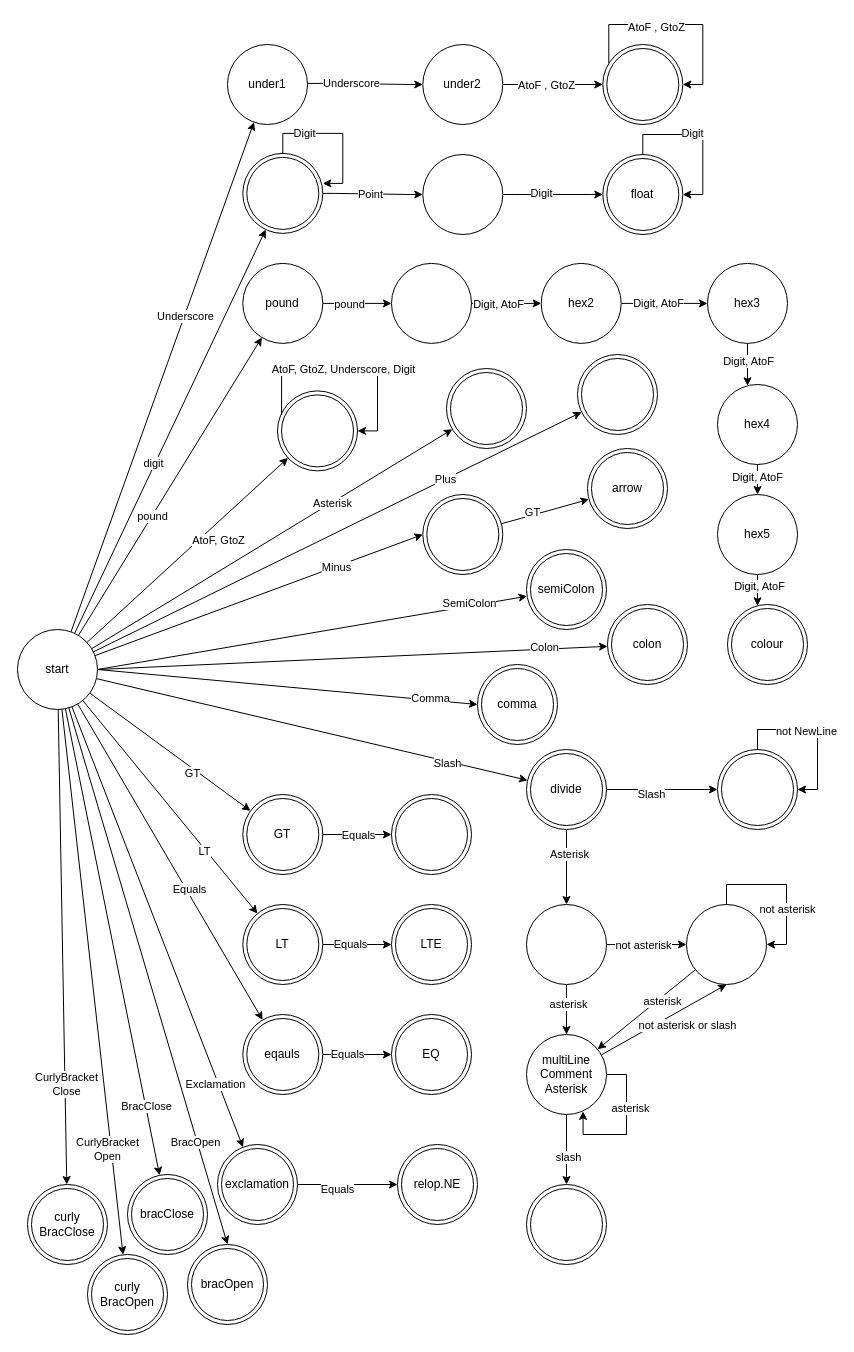
Image size: 854x1352. Some labels were removed from this diagram. Here are the shapes that lost their labels. From the top down, the centre of each, then its label:
At pixel 642 84: "sysFunc".
At pixel 282 192: "int".
At pixel 462 194: "intPoint".
At pixel 431 302: "hex1".
At pixel 486 408: "multiply".
At pixel 617 394: "add".
At pixel 317 430: "word".
At pixel 462 534: "subtract".
At pixel 757 789: "singleLine Comment".
At pixel 431 834: "GTE".
At pixel 566 944: "multiLine Comment Start".
At pixel 726 944: "multiLine Comment Mid".
At pixel 566 1224: "multiLine Comment".
